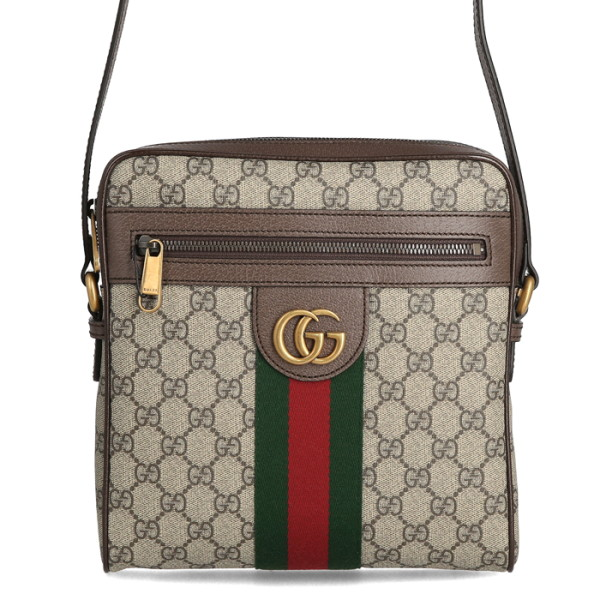Gucci: (71, 145, 550, 578), (218, 232, 393, 576), (376, 315, 482, 537), (262, 296, 351, 376)
